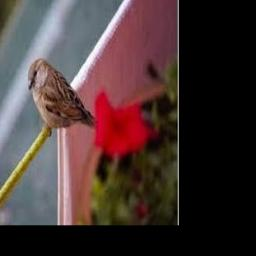Sparrow: (27, 58, 96, 137)
